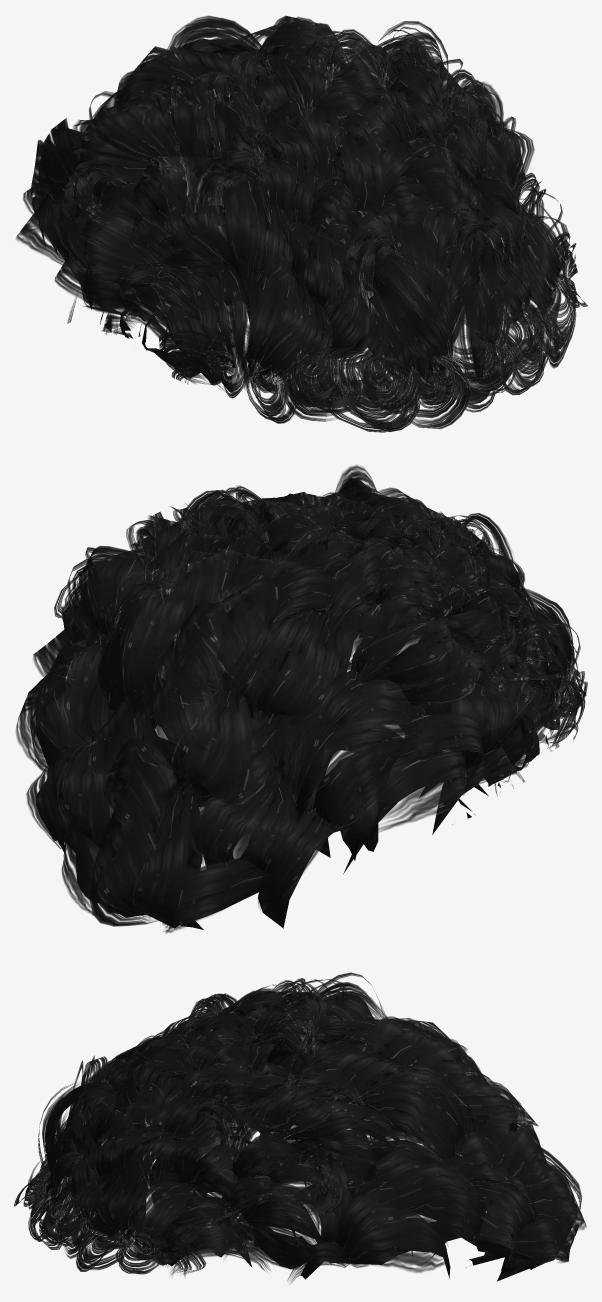
File: Oval_Curly_03.glb
3 views of the same model, one above another, from view 1: azimuth 30°, elevation 25°; view 2: azimuth 150°, elevation 25°; view 3: azimuth 270°, elevation 25° (orthographic). The views are drawn at different scales.
Parts seen in each view (by area): view 1: oval curly 03 taper fade; view 2: oval curly 03 taper fade; view 3: oval curly 03 taper fade.
Part boxes in pixels (x1,y1,x2,y2): oval curly 03 taper fade: [16, 15, 587, 432]; oval curly 03 taper fade: [15, 465, 587, 933]; oval curly 03 taper fade: [14, 972, 586, 1284].
Bounding box in the file's own units: 0.1885 × 0.1247 × 0.2503.
1 material, 1 textured.
